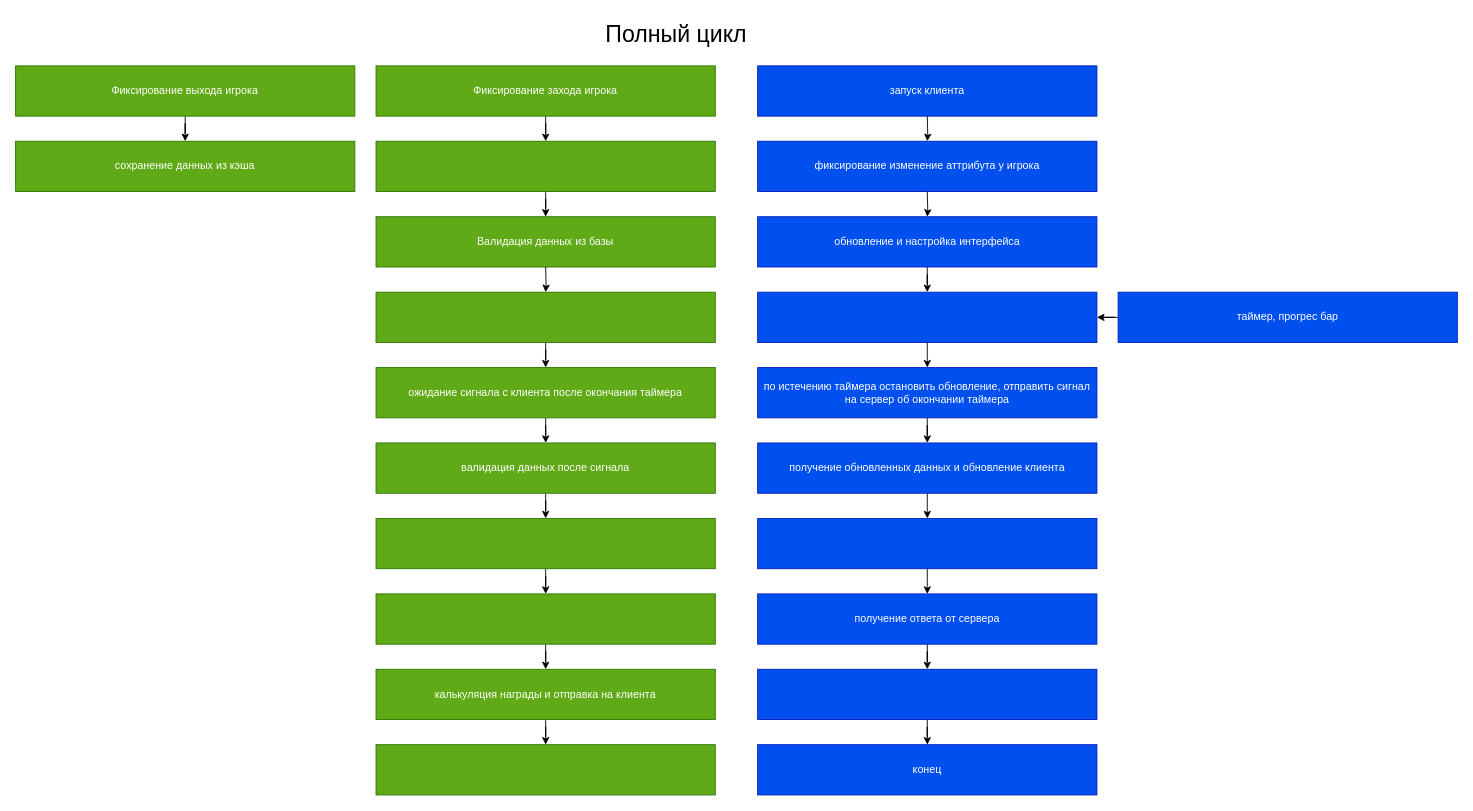
The diagram is 1473 pixels wide and 811 high, and some of its shapes have lost their labels. Each missing label, with the centre of its shape:
"запуск рулетки" goes at point 927,543.
"запуск цикла обновления (если нужно)" goes at point 927,316.
"обновление аттрибута" goes at point 545,543.
"обновление интерфейса, анимация рулетки" goes at point 927,694.
"обновление кэша" goes at point 545,769.
"ожидание сигнала на запуск рулетки" goes at point 545,618.
"Получение данных из базы" goes at point 545,166.
"установка аттрибута SpinWheel (CanClaim, Claimed, Timer)" goes at point 545,316.
